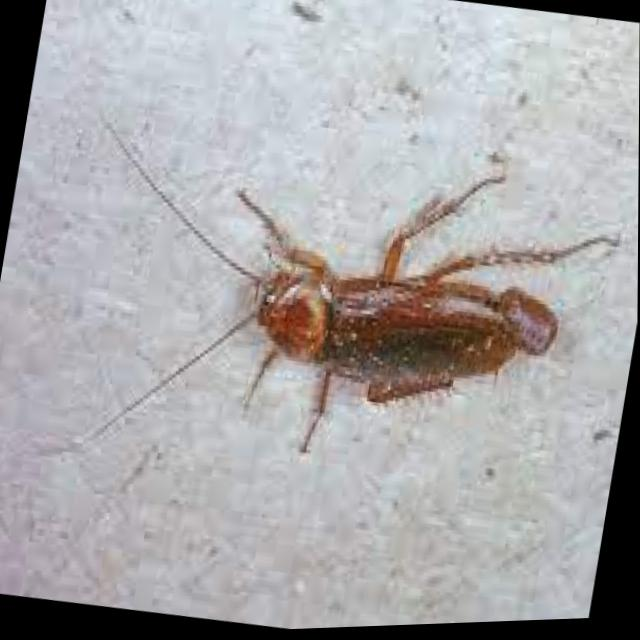Cockroach: (39, 90, 639, 532)
